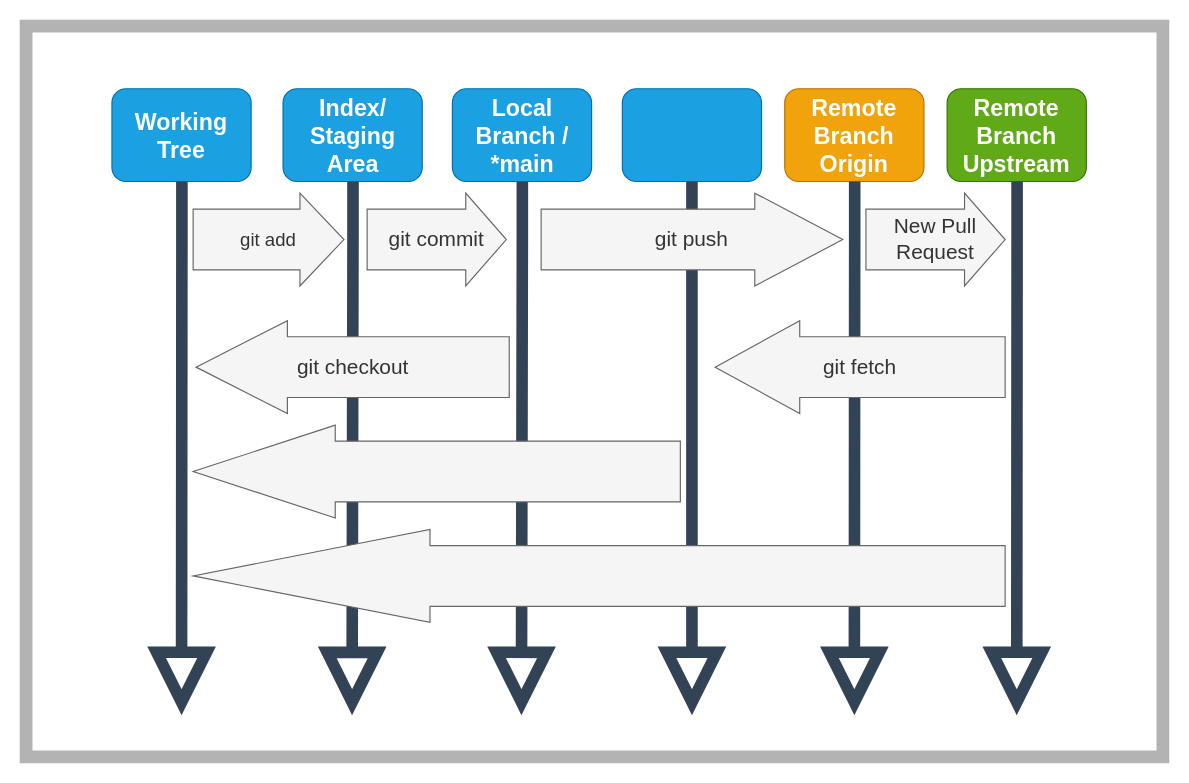
The diagram is 1189 pixels wide and 783 high, and some of its shapes have lost their labels. Each missing label, with the box of its shape:
git merge: (192, 424, 680, 518)
git pull: (192, 528, 1005, 622)
Remote Tracking Ref: (621, 88, 762, 182)
